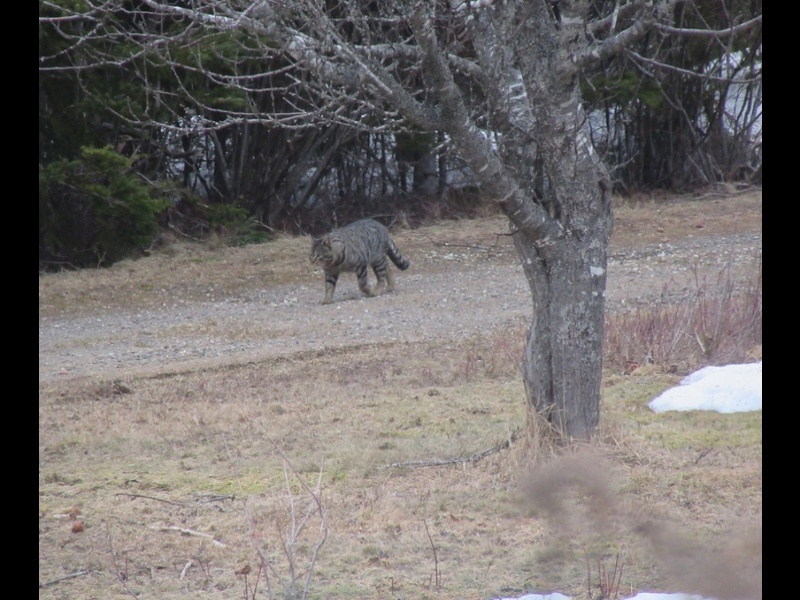cat: (308, 214, 412, 308)
